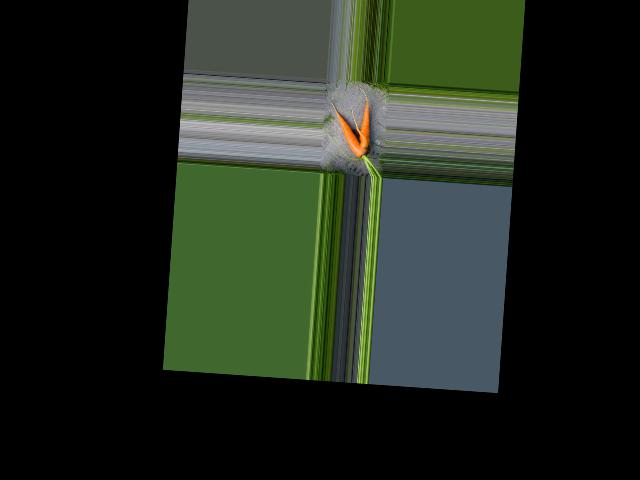carrot: (352, 89, 379, 151)
